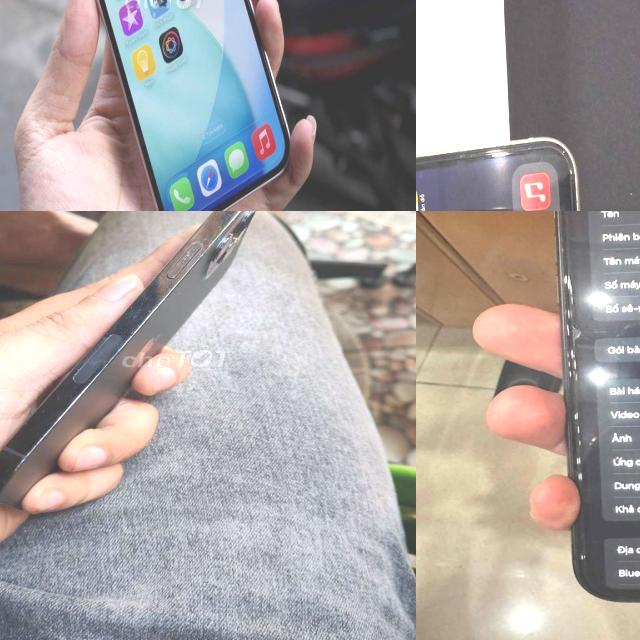gen_11: (547, 211, 640, 632), (416, 133, 588, 211)
gen_12_13: (0, 211, 264, 505)
gen_17: (57, 0, 299, 211)
